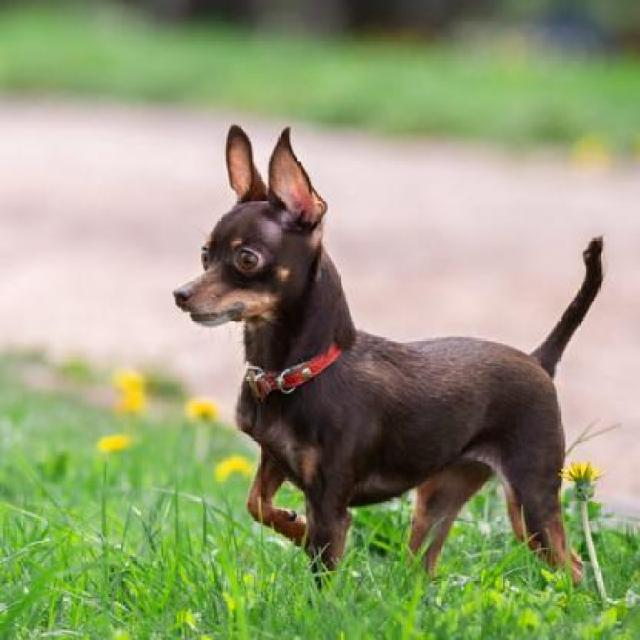animals: (118, 80, 640, 626)
